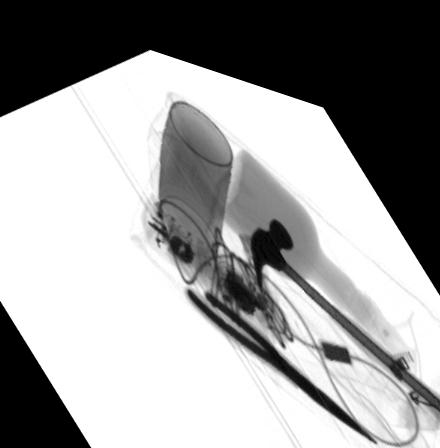Hammer: (250, 201, 440, 393)
Pliers: (182, 275, 380, 419)
